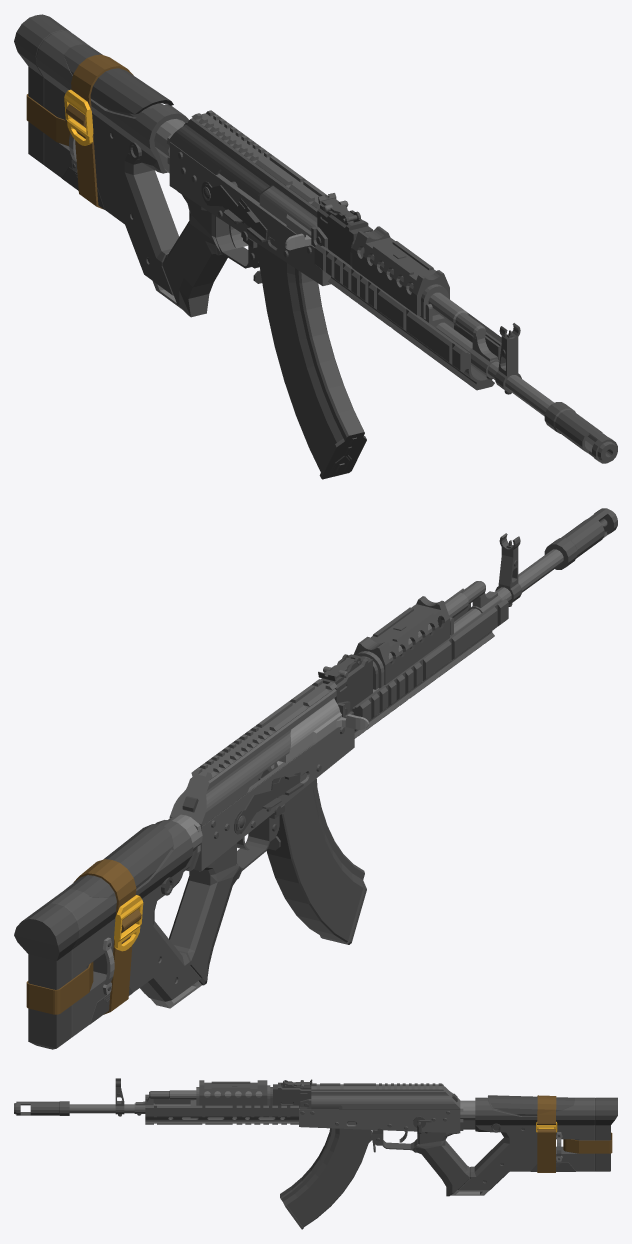
The picture shows the model from 3 angles, top to bottom: view 1: azimuth 30°, elevation 25°; view 2: azimuth 150°, elevation 25°; view 3: azimuth 270°, elevation 25°; orthographic projection. The views are drawn at different scales.
Parts seen in each view (by area): view 1: body-mesh, magazine-mesh; view 2: body-mesh, magazine-mesh; view 3: body-mesh, magazine-mesh.
Boxes of the visible parts, x1,y1,x2,y2 form: body-mesh: (14,14,617,463); magazine-mesh: (257,243,366,479); body-mesh: (14,508,617,1049); magazine-mesh: (258,769,366,944); body-mesh: (14,1078,617,1196); magazine-mesh: (280,1128,372,1229).
Size of the model in its own units: 12.33 by 46.83 by 175.
